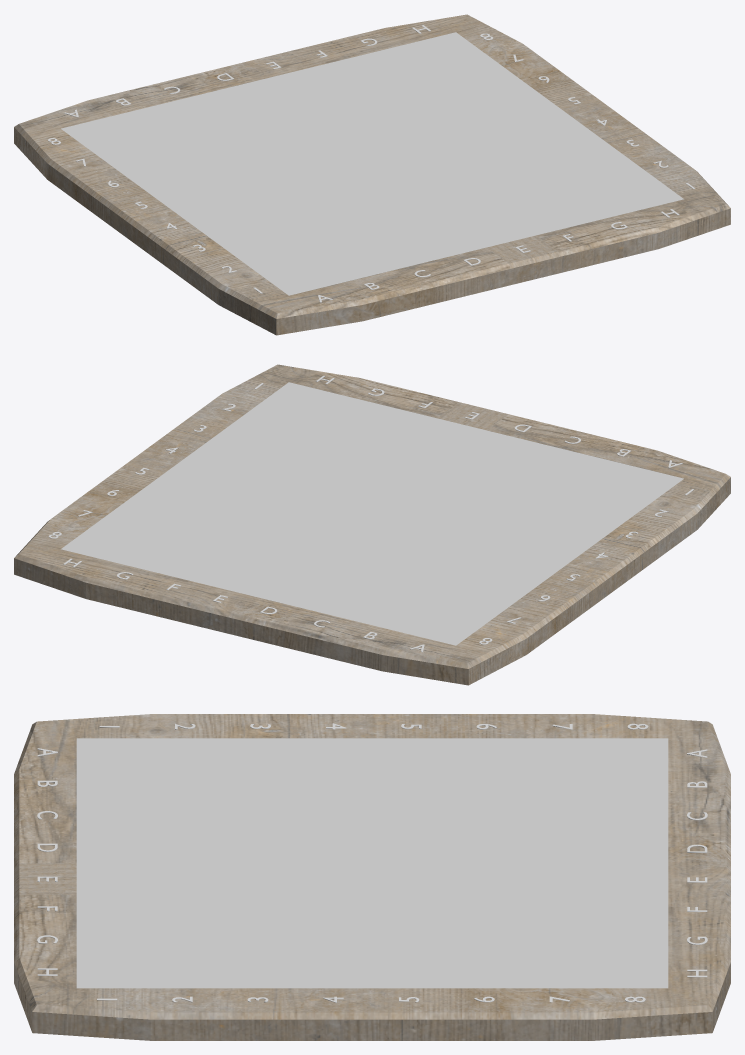
The model's file is ChessBoard.fbx.
3 views of the same model, one above another, from view 1: azimuth 30°, elevation 25°; view 2: azimuth 150°, elevation 25°; view 3: azimuth 270°, elevation 25° (orthographic). The views are drawn at different scales.
Visible parts, largest first — view 1: チェス盤; view 2: チェス盤; view 3: チェス盤.
Part boxes in pixels (box(x1,y1,x2,y2)): チェス盤: box(14, 14, 730, 335); チェス盤: box(14, 364, 730, 685); チェス盤: box(14, 714, 730, 1040).
Size of the model in its own units: 24.23 by 0.987 by 24.23.
3 materials, 1 textured.
